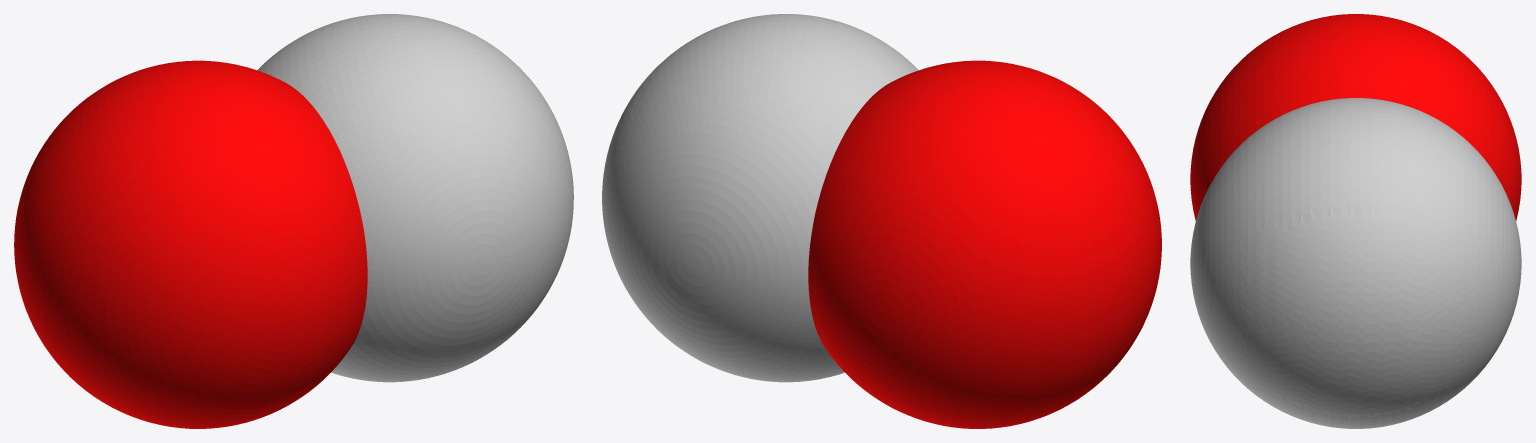
File: two_spheres.obj
3 views of the same model, side by side, from view 1: azimuth 30°, elevation 25°; view 2: azimuth 150°, elevation 25°; view 3: azimuth 270°, elevation 25° (orthographic). The views are drawn at different scales.
Parts seen in each view (by area): view 1: Sphere, Sphere001; view 2: Sphere, Sphere001; view 3: Sphere001, Sphere.
Part boxes in pixels (x1=…): Sphere: x1=14, y1=60, x2=367, y2=428; Sphere001: x1=257, y1=14, x2=573, y2=382; Sphere: x1=808, y1=60, x2=1161, y2=428; Sphere001: x1=602, y1=14, x2=918, y2=382; Sphere001: x1=1190, y1=98, x2=1521, y2=428; Sphere: x1=1190, y1=14, x2=1521, y2=220.
Bounding box in the file's own units: 16 × 9.99 × 10.
